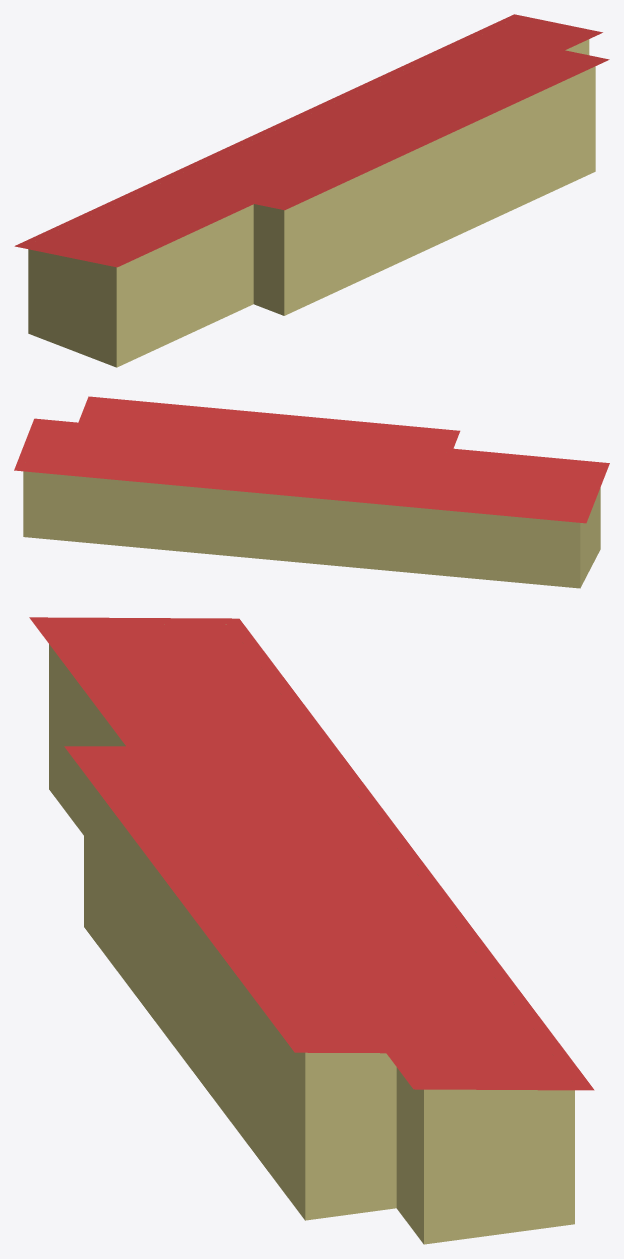
3 views of the same model, one above another, from view 1: azimuth 30°, elevation 25°; view 2: azimuth 150°, elevation 25°; view 3: azimuth 270°, elevation 25° (orthographic). The views are drawn at different scales.
Bounding box in the file's own units: 37.03 × 17.84 × 6.13.
